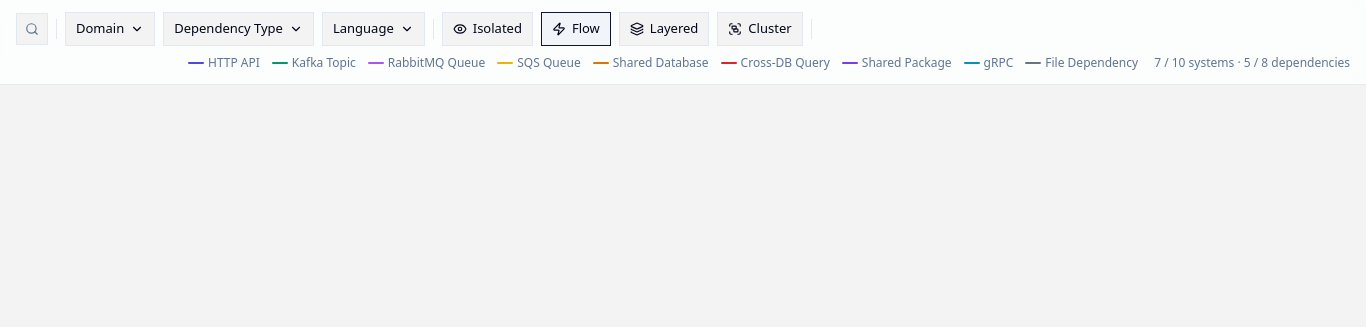
Test: GraphToolbar › opens dependency type dropdown with colored options
Click the button "Dependency Type" at (239, 29), box left=163, top=12, right=314, bottom=46
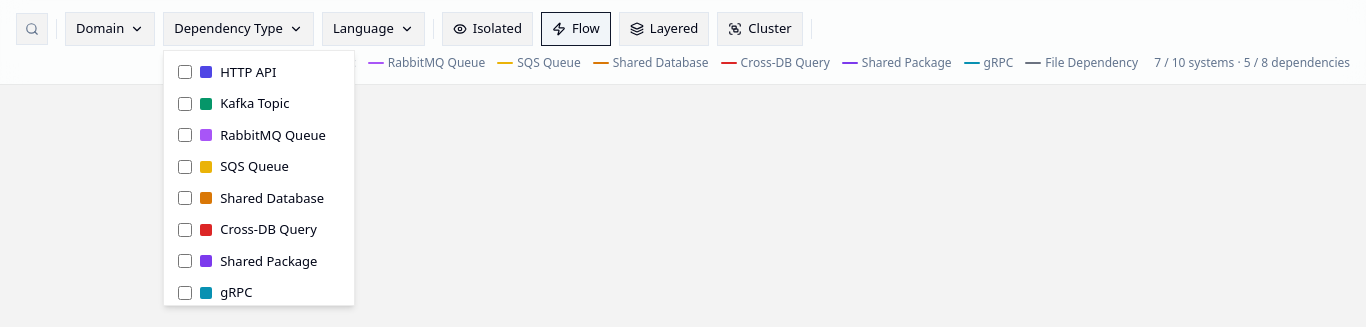
Check: the text "HTTP API" is shown 2 times, box left=178, top=62, right=276, bottom=80; left=188, top=54, right=260, bottom=72
Check: the text "Kafka Topic" is shown 2 times, box left=178, top=94, right=289, bottom=112; left=272, top=54, right=356, bottom=72
